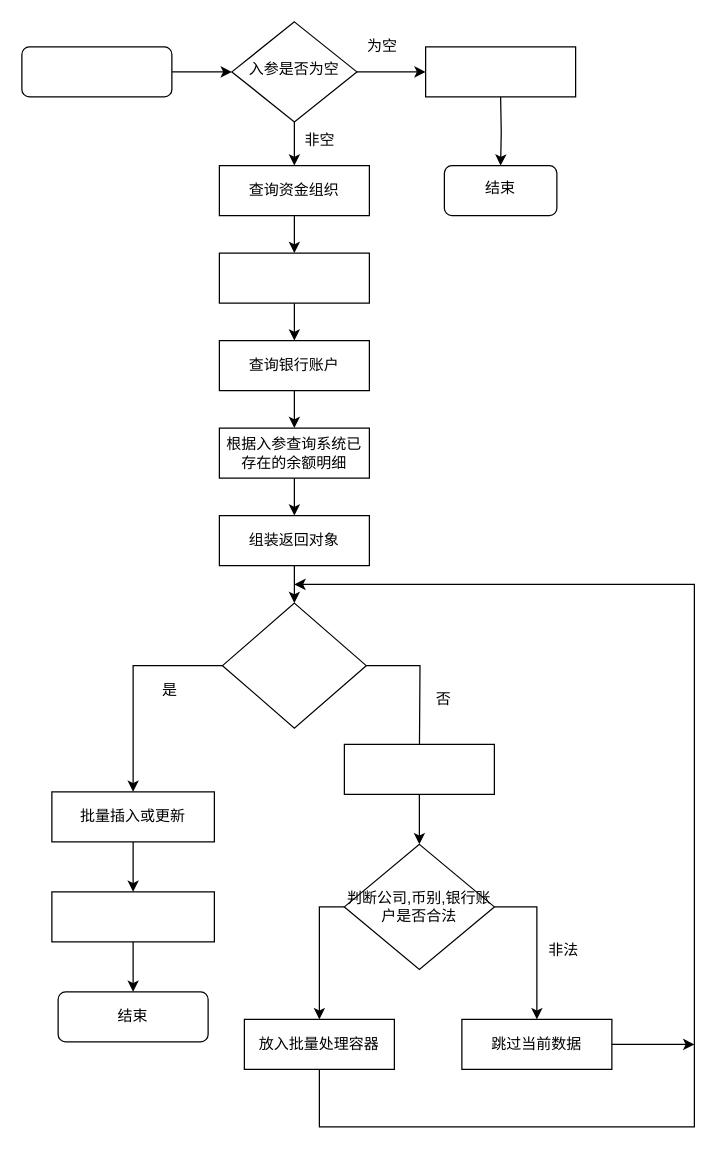
This 726x1159 diagram has some shape labels left out. Here are the shapes that lost their labels. From the top down, the box of each, then its label:
(21, 46, 172, 97): 开始
(424, 46, 576, 97): 返回无数据可导入
(218, 252, 369, 303): 查询币别
(221, 602, 366, 728): for循环 是否最后一条数据
(343, 743, 494, 794): 获取单条数据
(51, 891, 214, 942): 返回处理结果
